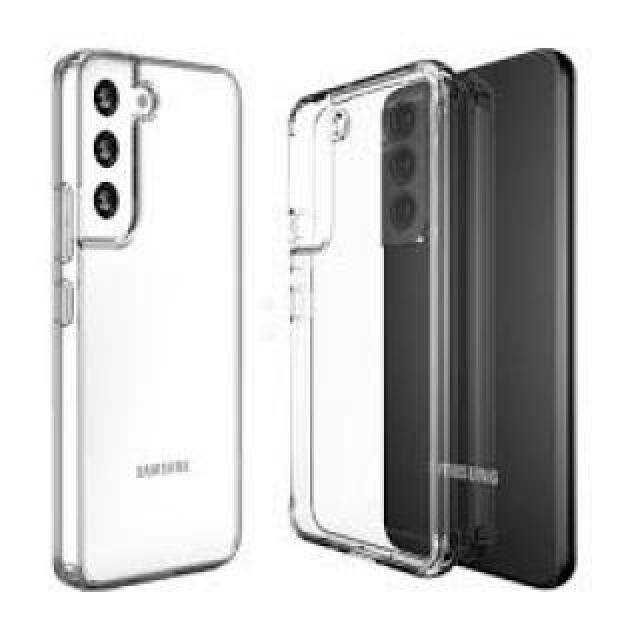smart phone: (30, 37, 280, 613), (392, 35, 595, 562)
